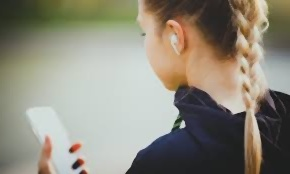earphone: (166, 20, 184, 57)
